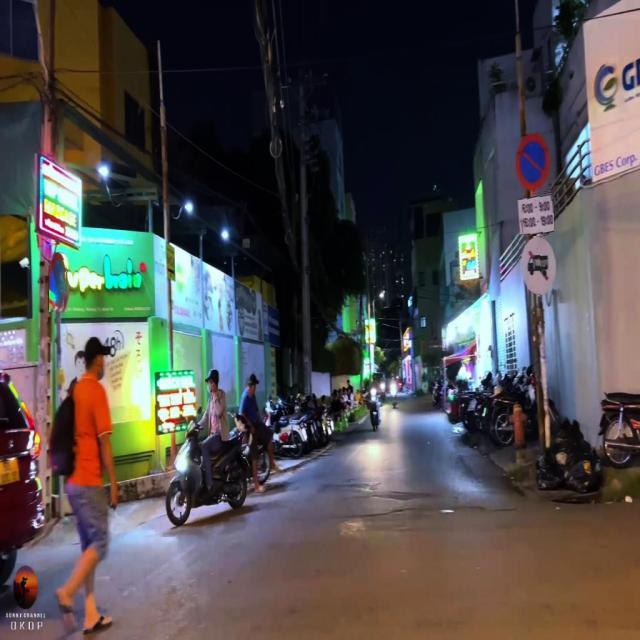cam_do_xe: (514, 133, 550, 195), (49, 254, 68, 312)
cam_o_to_tai_trong_luong_qua_2-5t: (519, 236, 558, 296)
khac: (519, 192, 554, 236)
